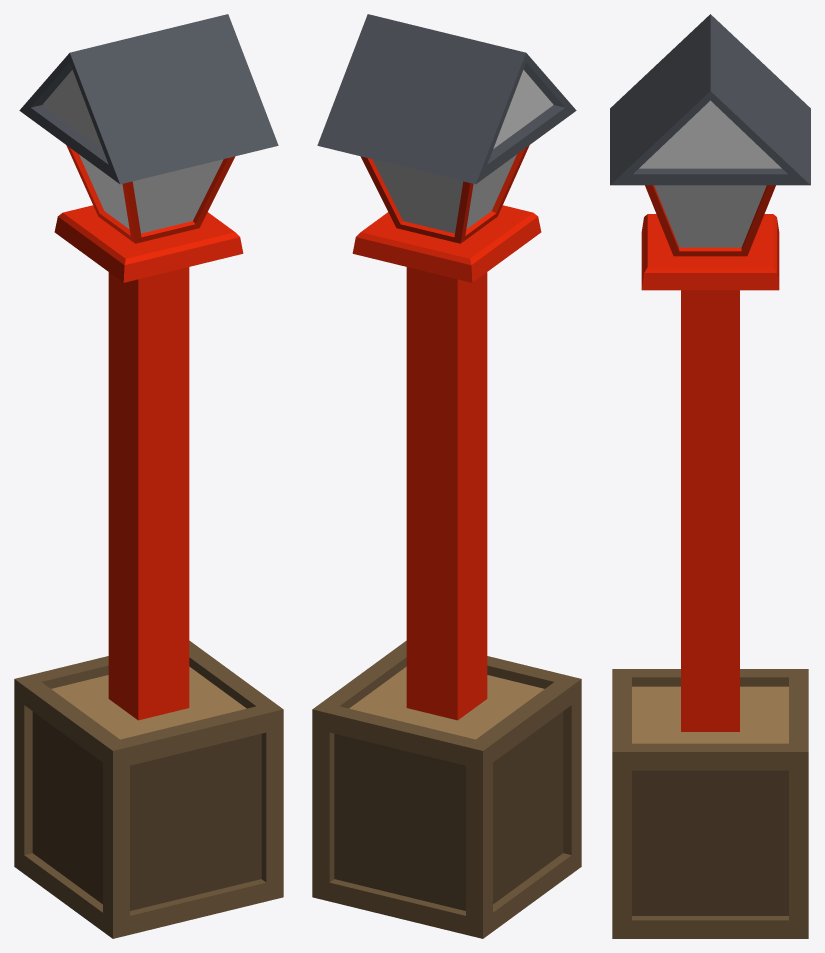
Rendered from Lamp_1.fbx.
3 views of the same model, side by side, from view 1: azimuth 30°, elevation 25°; view 2: azimuth 150°, elevation 25°; view 3: azimuth 270°, elevation 25° (orthographic).
Visible parts, largest first — view 1: Lamp_1; view 2: Lamp_1; view 3: Lamp_1.
Boxes of the visible parts, left/top/right/bottom form: Lamp_1: left=14, top=14, right=283, bottom=938; Lamp_1: left=312, top=14, right=581, bottom=938; Lamp_1: left=610, top=14, right=810, bottom=938.
Size of the model in its own units: 21.87 by 104 by 22.38.
